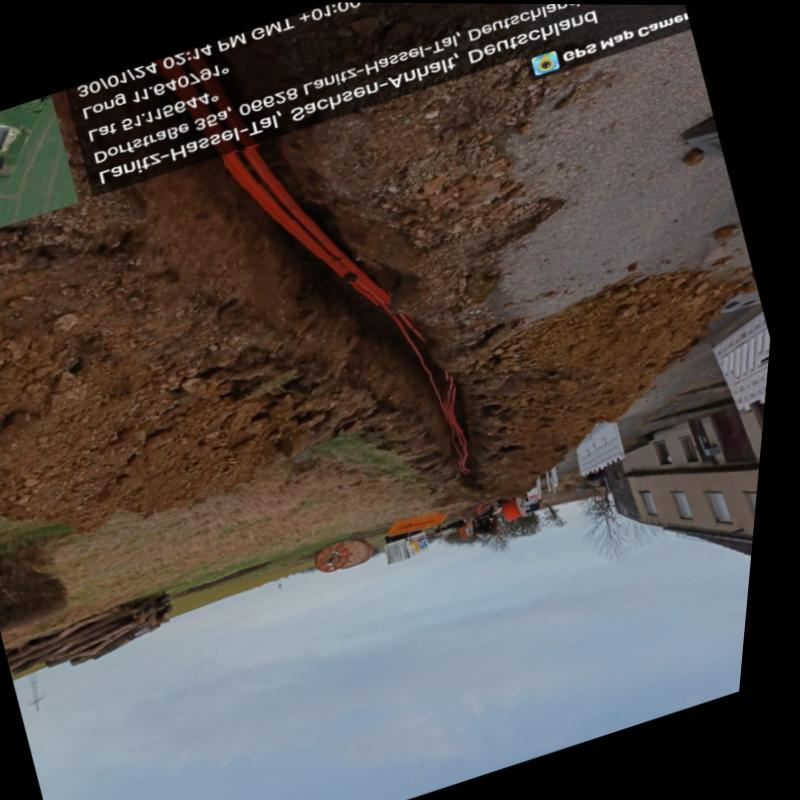Orang-Speednetrohrchen: (225, 146, 396, 304), (453, 377, 477, 453)
